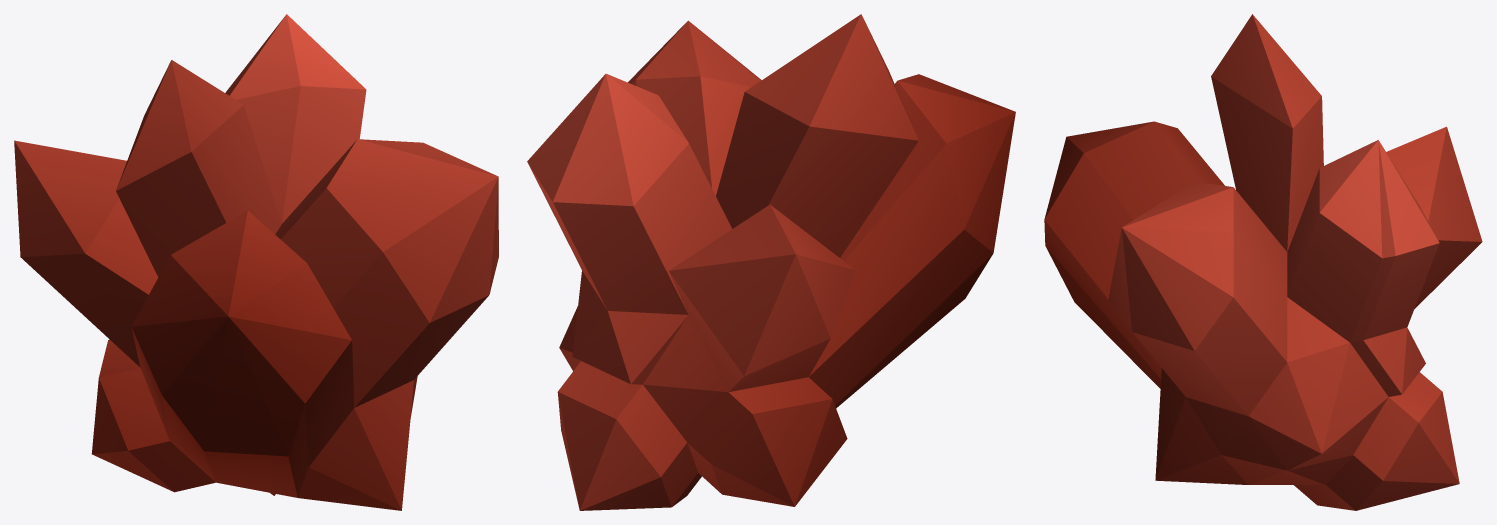
Rendered from Fire Quartz.fbx.
The picture shows the model from 3 angles, left to right: view 1: azimuth 30°, elevation 25°; view 2: azimuth 150°, elevation 25°; view 3: azimuth 270°, elevation 25°; orthographic projection. The views are drawn at different scales.
Visible parts, largest first — view 1: FIRE QUARTZ.001; view 2: FIRE QUARTZ.001; view 3: FIRE QUARTZ.001.
Part boxes in pixels (<box>): FIRE QUARTZ.001: <box>14,14,498,510</box>; FIRE QUARTZ.001: <box>527,14,1015,510</box>; FIRE QUARTZ.001: <box>1044,14,1482,510</box>.
Size of the model in its own units: 156 by 203 by 187.
Materials: 1 (1 with a texture image).
